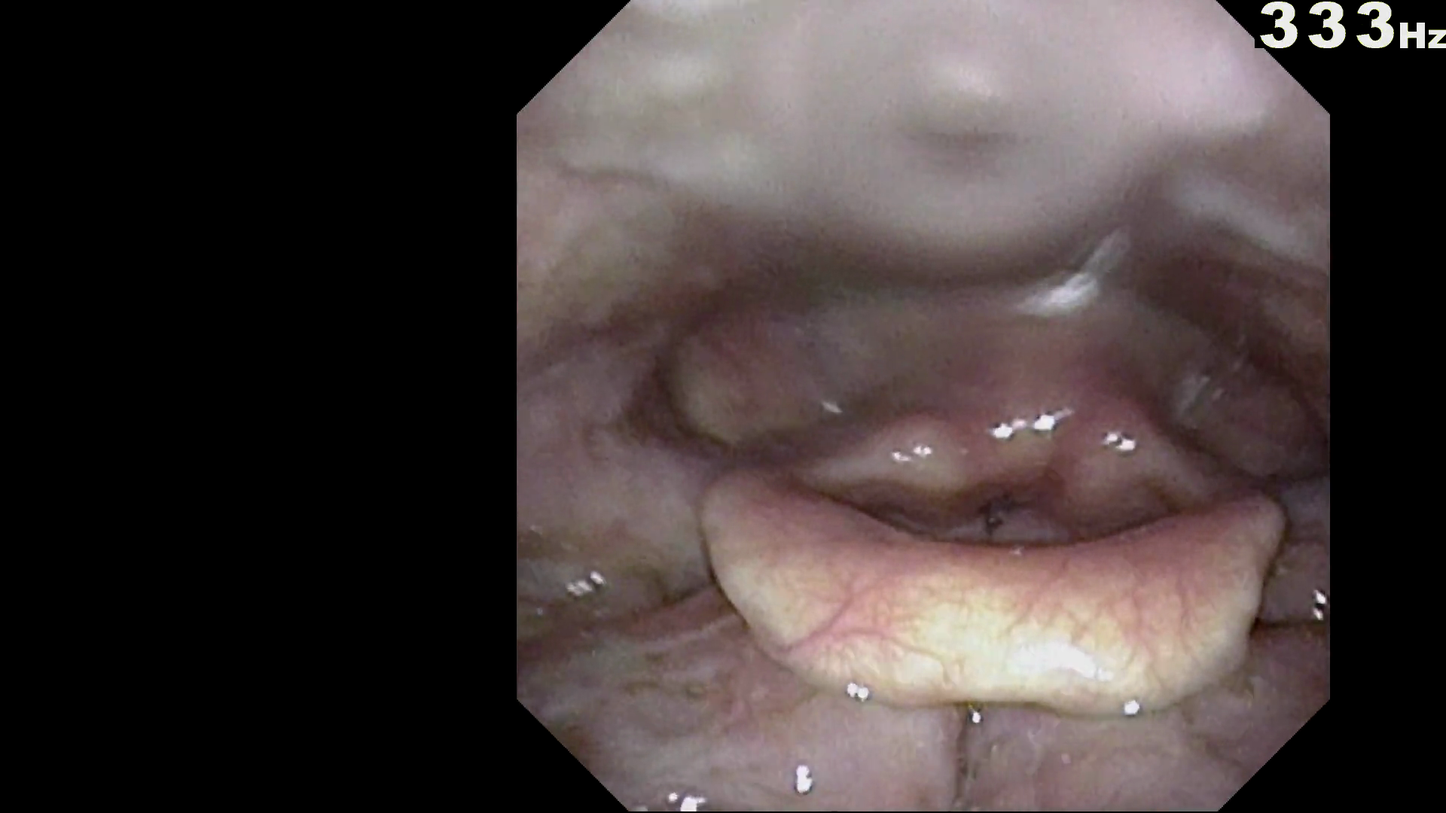epiglottis: (682, 484, 1291, 709)
trachea: (970, 487, 1033, 548)
